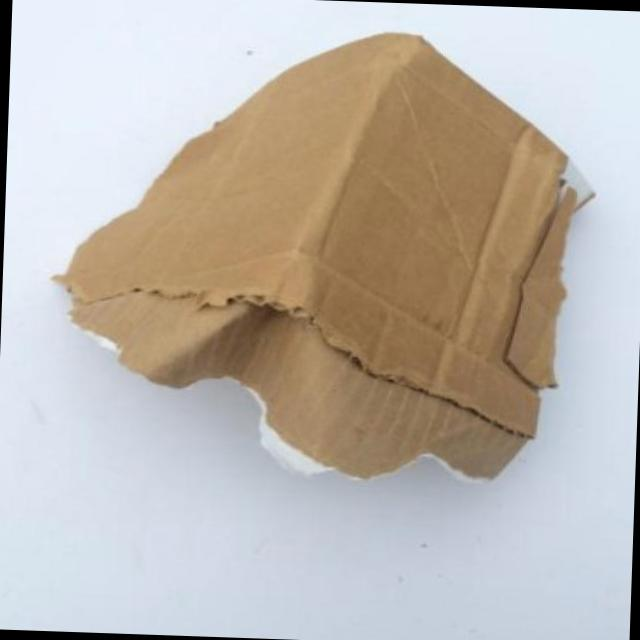cardboard paper: (54, 33, 574, 475)
